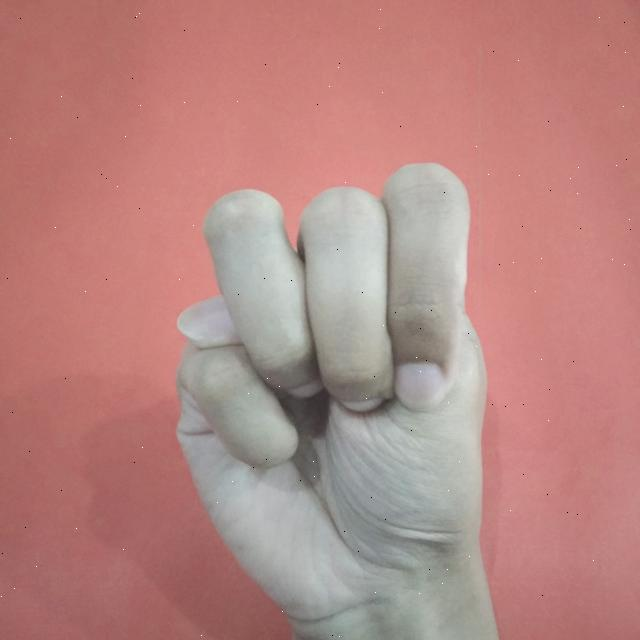M: (167, 154, 505, 640)
